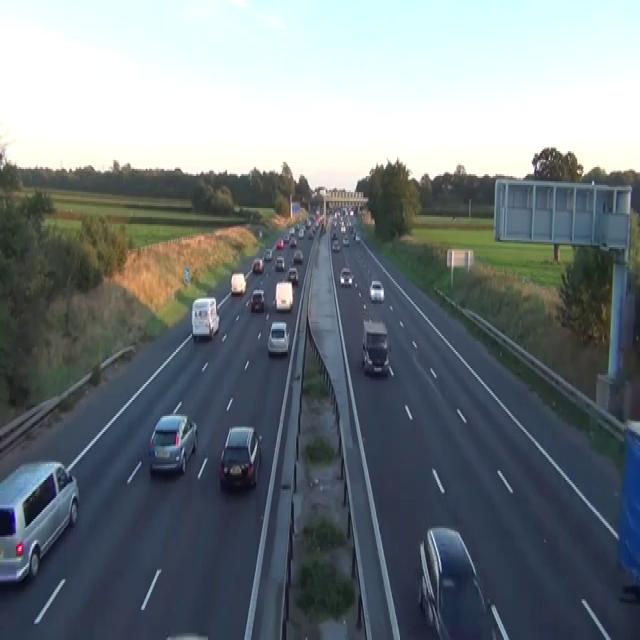Car: (418, 526, 510, 638), (0, 459, 79, 585), (148, 412, 198, 474), (219, 425, 262, 491), (361, 317, 389, 375), (267, 320, 289, 354), (273, 281, 293, 311), (230, 272, 246, 295), (369, 279, 384, 302), (250, 288, 265, 311), (165, 631, 209, 638), (339, 267, 354, 286), (287, 266, 298, 284), (252, 258, 264, 274), (292, 249, 303, 263), (274, 256, 285, 270), (263, 247, 272, 260), (276, 236, 284, 249), (331, 240, 340, 251), (289, 235, 297, 247), (342, 235, 349, 245), (298, 228, 304, 238), (305, 217, 311, 227), (340, 222, 345, 233), (354, 233, 360, 242), (331, 231, 337, 240), (283, 233, 289, 242), (307, 231, 314, 238), (289, 226, 295, 234), (349, 206, 354, 215), (258, 228, 262, 238), (295, 222, 299, 231)
Truck: (191, 297, 219, 339)
